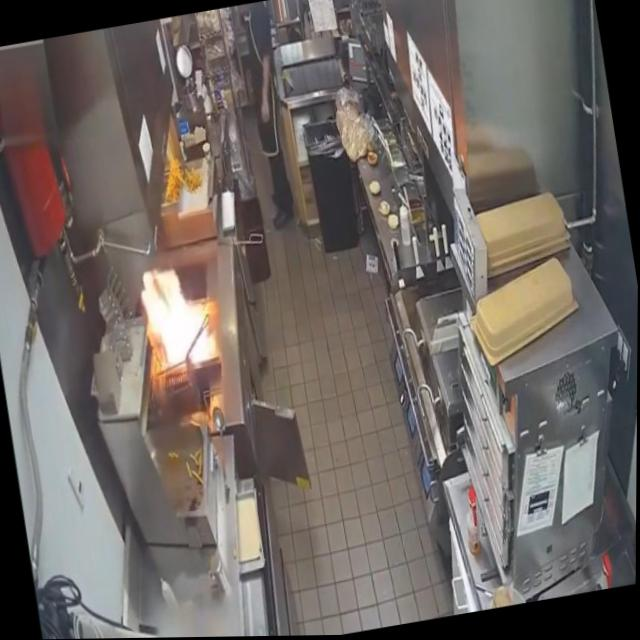fire: (133, 252, 223, 384)
